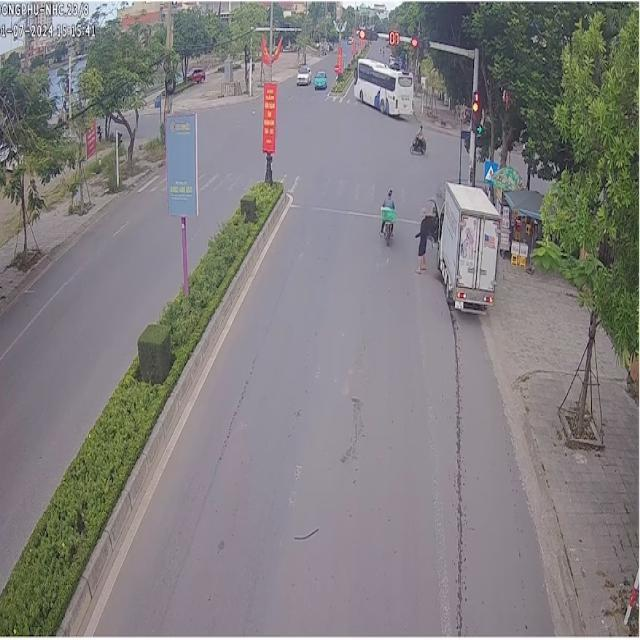car: (436, 180, 498, 309), (352, 57, 412, 113), (295, 64, 309, 84), (313, 68, 326, 88)
motobike: (378, 187, 394, 243), (408, 123, 424, 153)
red_light: (470, 89, 479, 132), (410, 34, 432, 47), (358, 26, 378, 40), (387, 30, 399, 48)
stop_line: (289, 203, 379, 216), (394, 216, 418, 222)
